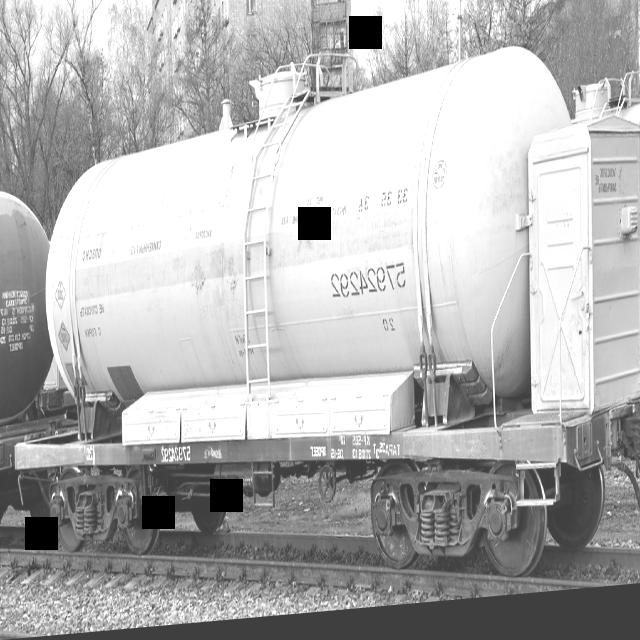tank: (38, 14, 640, 624), (575, 76, 640, 461), (0, 151, 62, 549)
